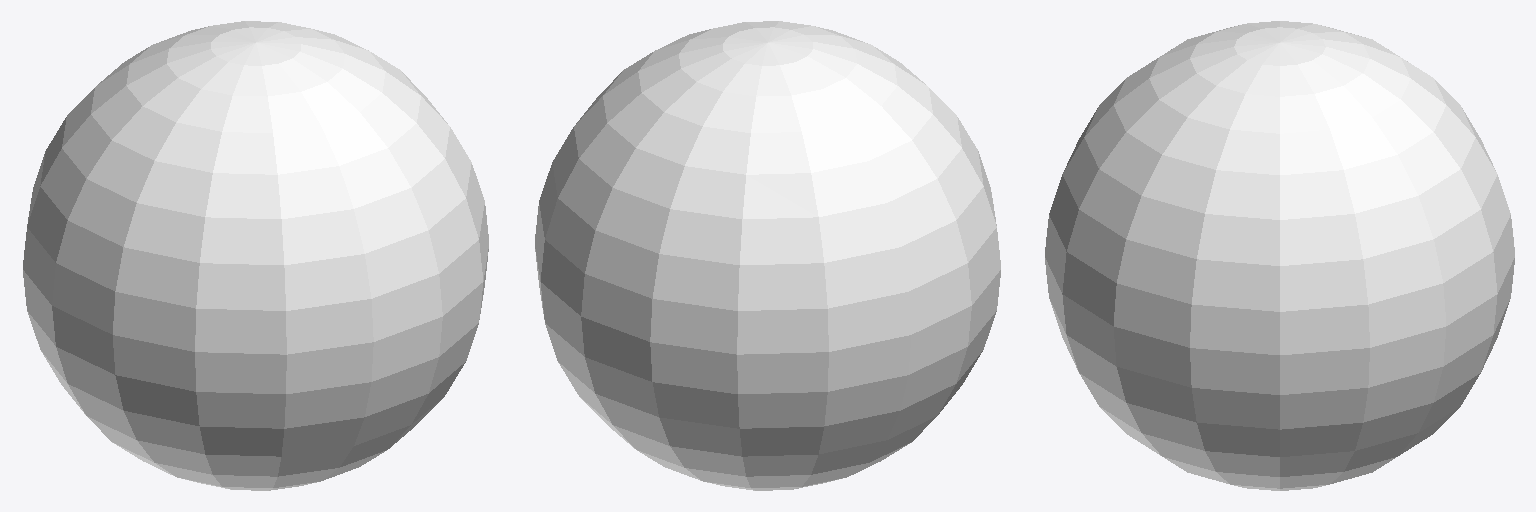
File: DeathParticle.obj
3 views of the same model, side by side, from view 1: azimuth 30°, elevation 25°; view 2: azimuth 150°, elevation 25°; view 3: azimuth 270°, elevation 25° (orthographic).
Parts seen in each view (by area): view 1: 球; view 2: 球; view 3: 球.
Boxes of the visible parts, <box> form: 球: <box>23,21,488,490</box>; 球: <box>535,21,1000,490</box>; 球: <box>1045,21,1514,490</box>.
Size of the model in its own units: 0.5 by 0.5 by 0.5.